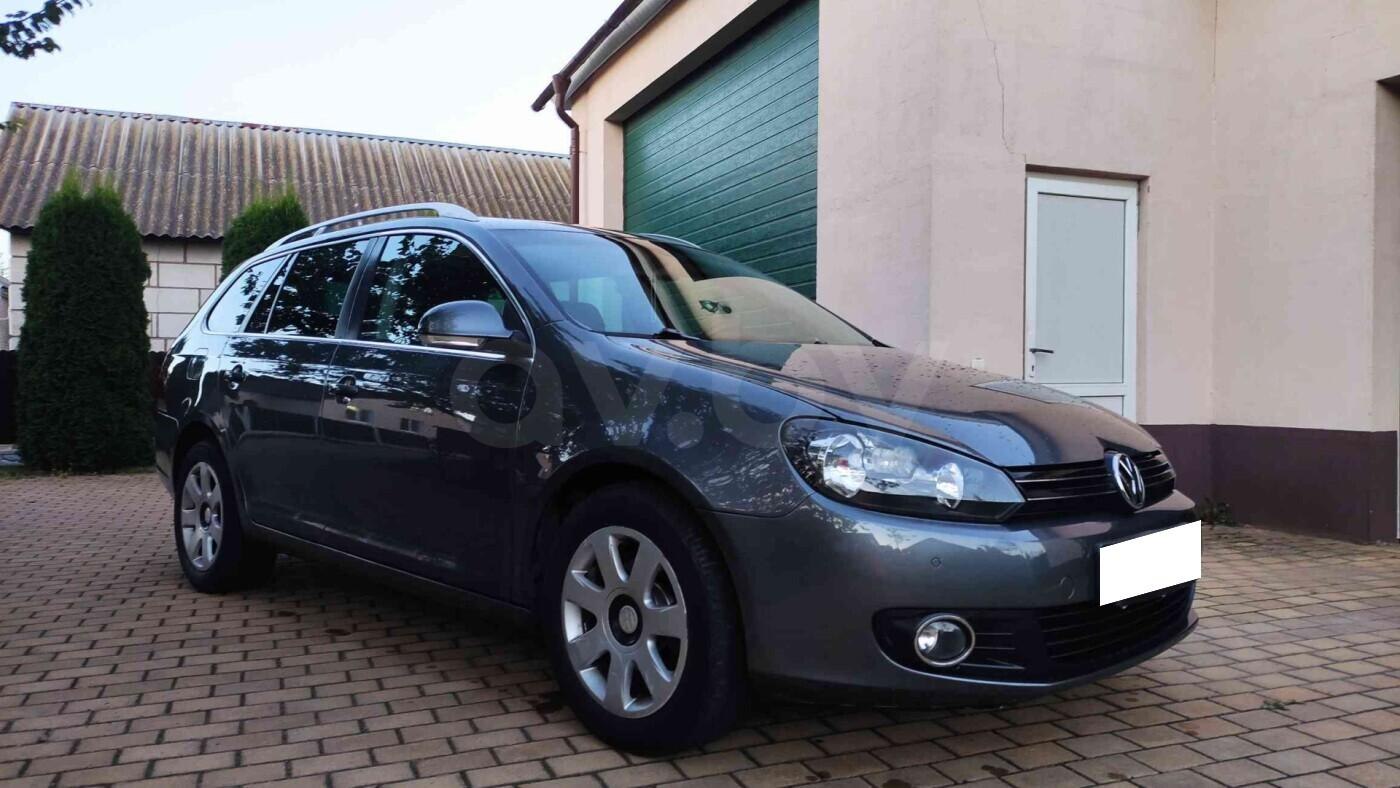Golf_2008-2013: (153, 212, 1196, 739)
